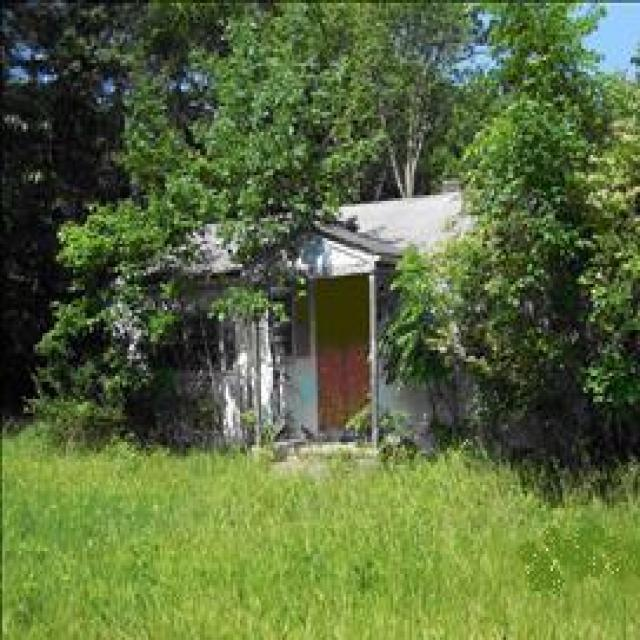House: (119, 173, 546, 468)
